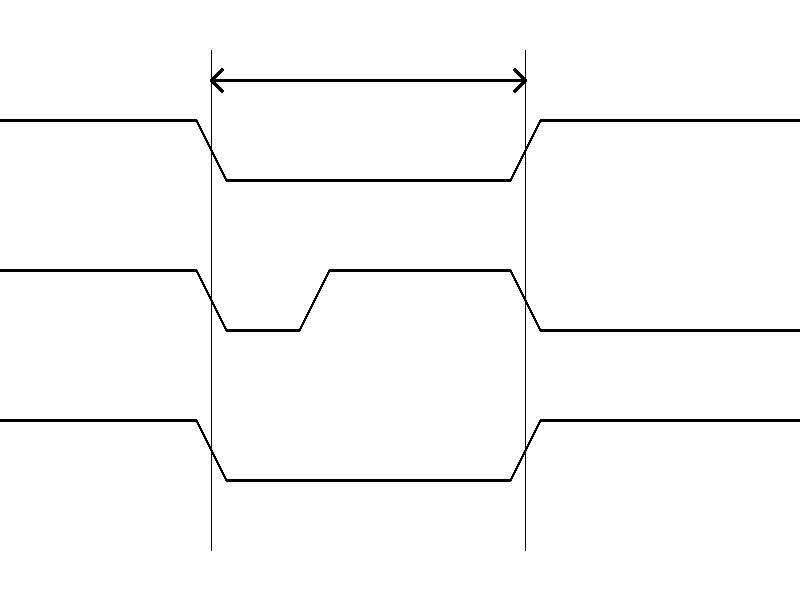double_arrow: (211, 65, 525, 95)
